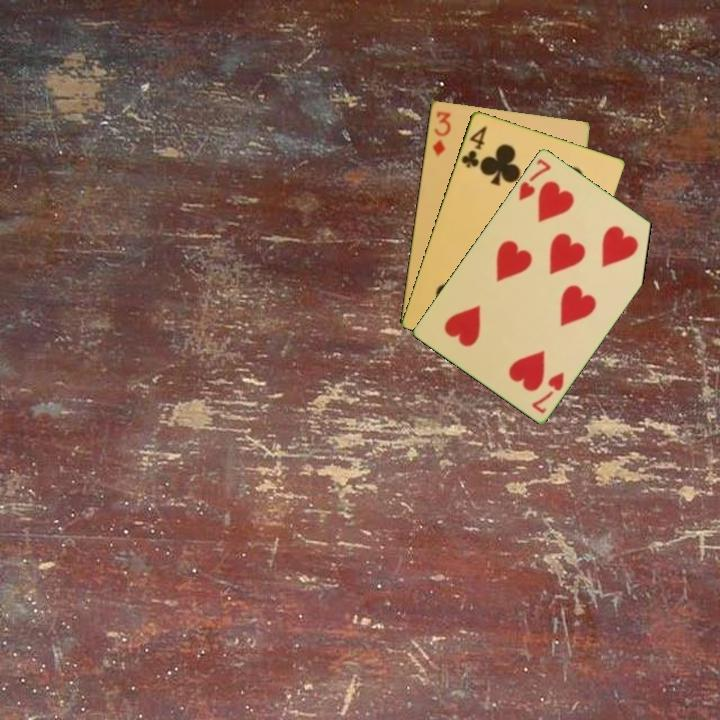3d: (428, 108, 453, 158)
4c: (457, 122, 490, 171)
7h: (515, 155, 554, 203), (528, 368, 567, 416)
